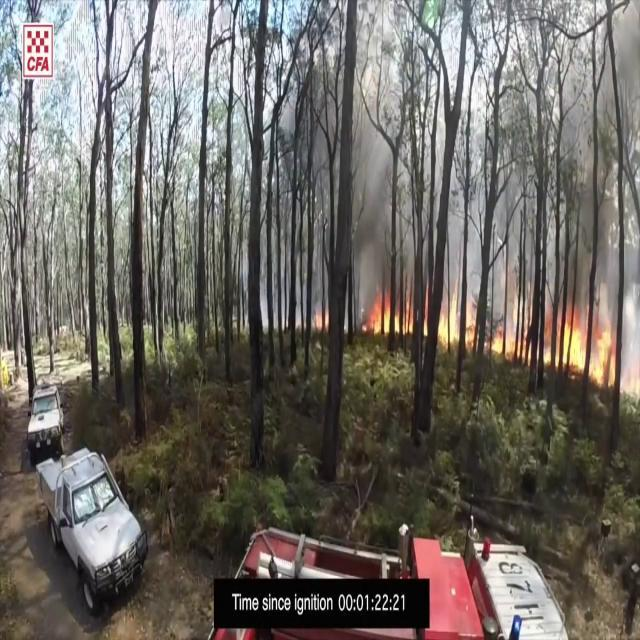Fire: (558, 296, 625, 393), (369, 291, 410, 344)
Smoke: (316, 74, 427, 310), (555, 22, 636, 298)
